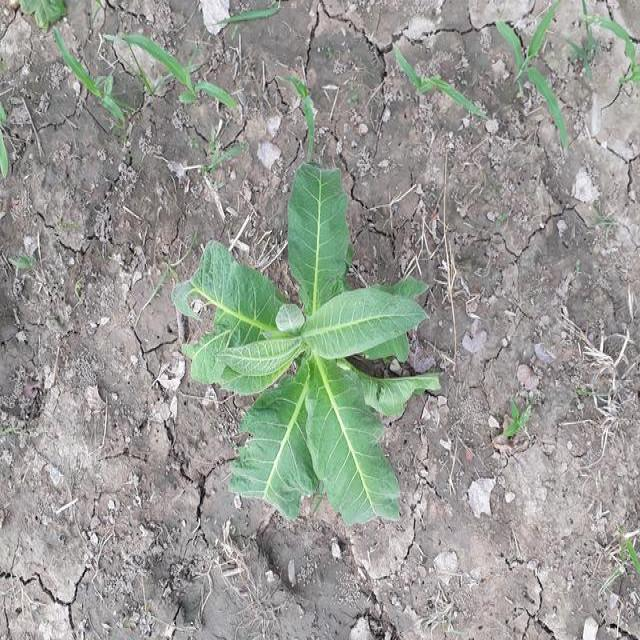crop: (180, 175, 434, 523)
